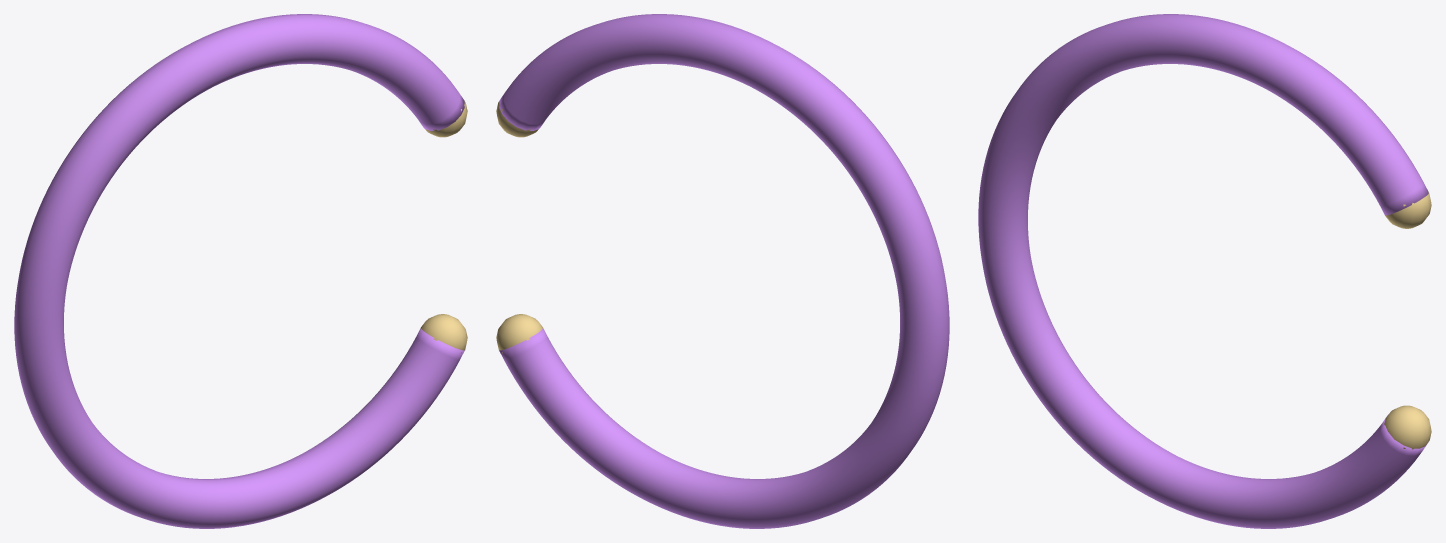
Rendered from large-arc-rLXAt3Hl.glb.
3 views of the same model, side by side, from view 1: azimuth 30°, elevation 25°; view 2: azimuth 150°, elevation 25°; view 3: azimuth 330°, elevation 25° (orthographic).
Parts seen in each view (by area): view 1: R3D_large-arc_Body_0, R3D_large-arc_Tip_1; view 2: R3D_large-arc_Body_0, R3D_large-arc_Tip_1; view 3: R3D_large-arc_Body_0, R3D_large-arc_Tip_1, R3D_large-arc_Tip_0.
Boxes of the visible parts, <box> form: R3D_large-arc_Body_0: <box>14,14,464,528</box>; R3D_large-arc_Tip_1: <box>420,314,467,353</box>; R3D_large-arc_Body_0: <box>499,14,949,528</box>; R3D_large-arc_Tip_1: <box>496,314,543,353</box>; R3D_large-arc_Body_0: <box>978,14,1428,528</box>; R3D_large-arc_Tip_1: <box>1384,405,1431,449</box>; R3D_large-arc_Tip_0: <box>1385,192,1431,228</box>.
Size of the model in its own units: 2.48 by 2.64 by 0.24.
